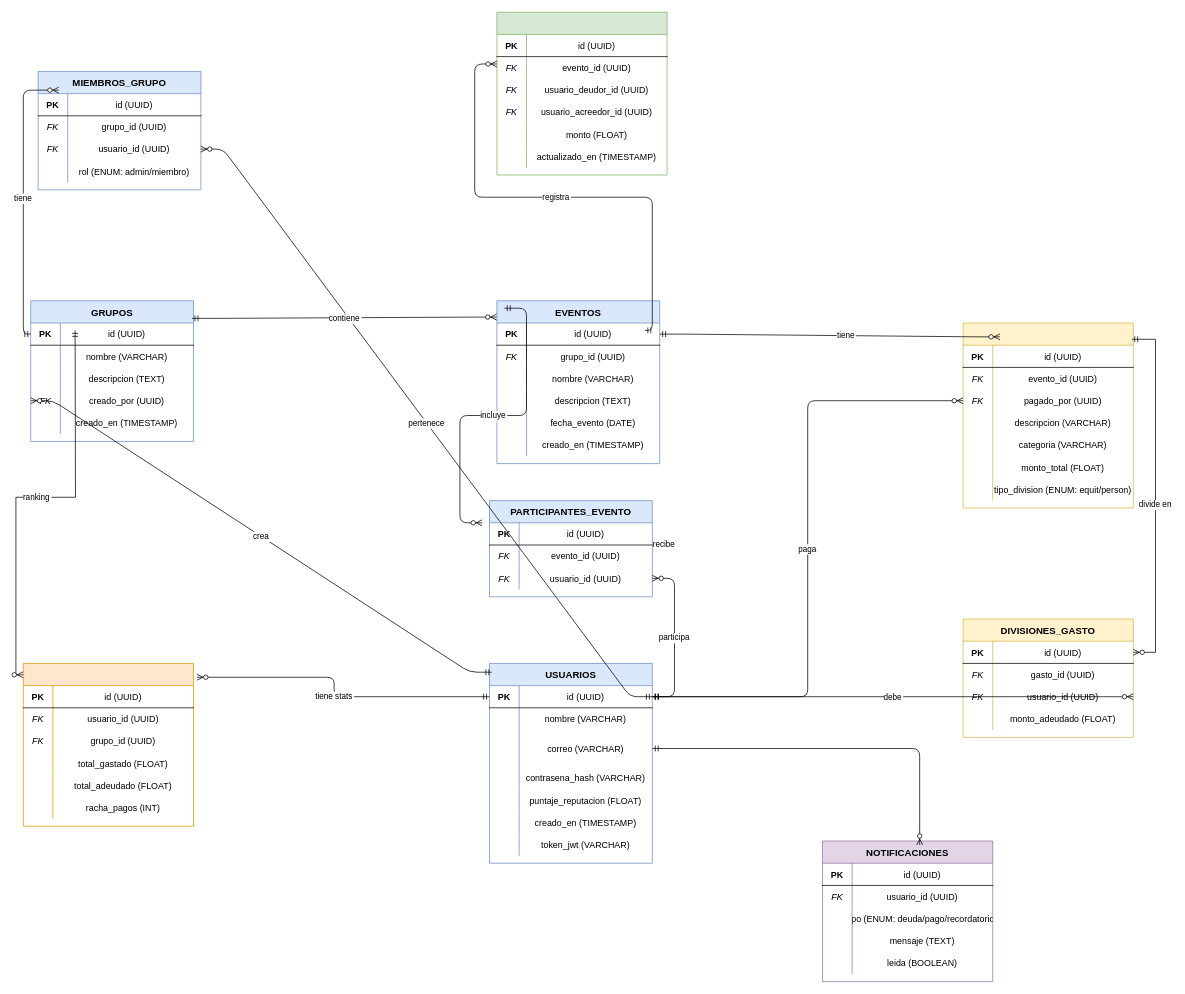
This 1185x994 diagram has some shape labels left out. Here are the shapes that lost their labels. From the top down, the box of each, then its label:
(496, 11, 667, 175): BALANCES
(962, 322, 1133, 508): GASTOS
(23, 663, 194, 826): ESTADISTICAS_USUARIO
